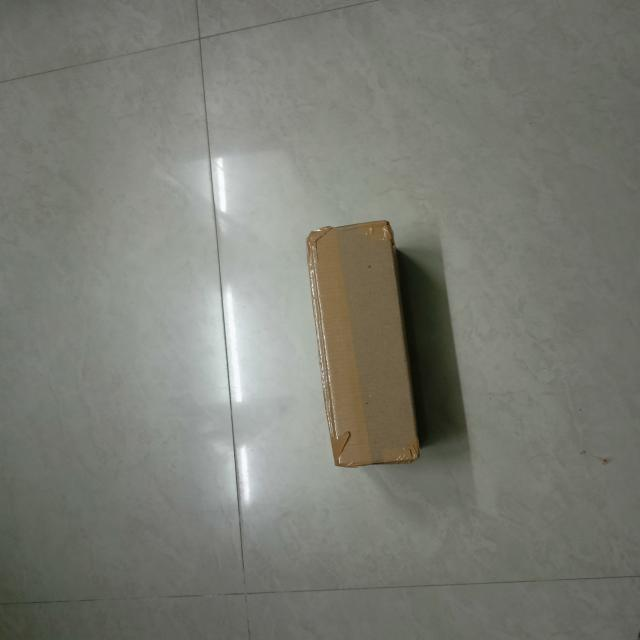box: (313, 222, 423, 466)
